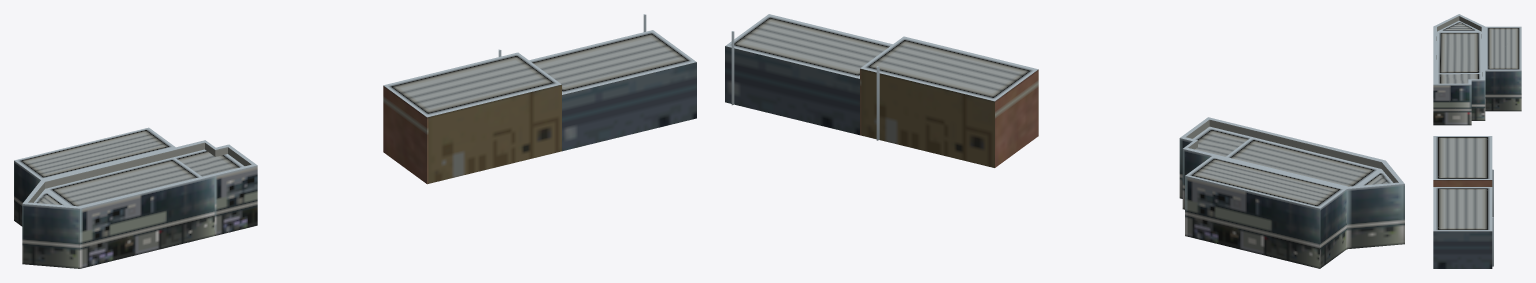
Rendered from CarPark.fbx.
3 renders of one model, left to right at view 1: azimuth 30°, elevation 25°; view 2: azimuth 150°, elevation 25°; view 3: azimuth 270°, elevation 25°, orthographic. The views are drawn at different scales.
Visible parts, largest first — view 1: CarPark1; view 2: CarPark1; view 3: CarPark1.
Boxes of the visible parts, bbox=[...] form: CarPark1: bbox=[14, 14, 696, 268]; CarPark1: bbox=[725, 14, 1404, 268]; CarPark1: bbox=[1433, 14, 1521, 268].
Size of the model in its own units: 18.94 by 2.02 by 3.3.
